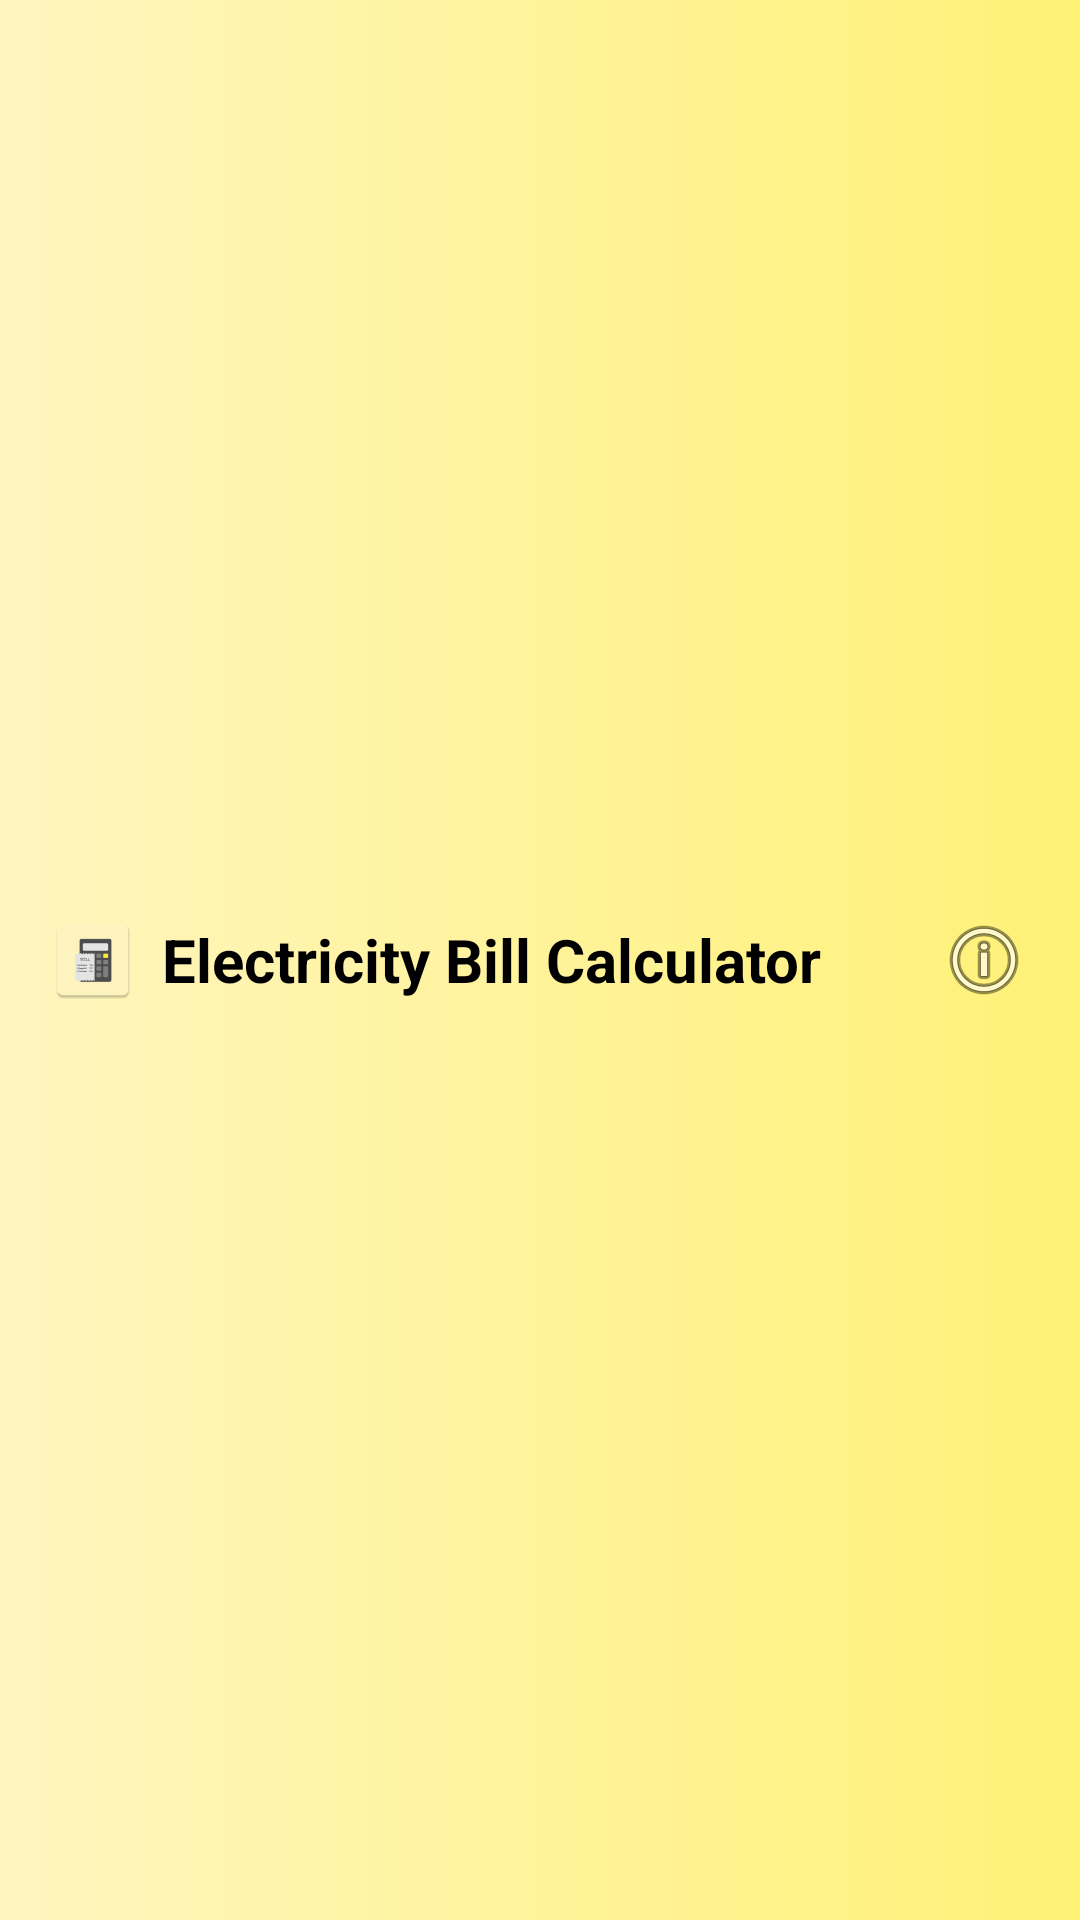

Where to tap for icons on this 1080×1920 app screen, as (x=x, y=y):
Info: (x=984, y=960)
